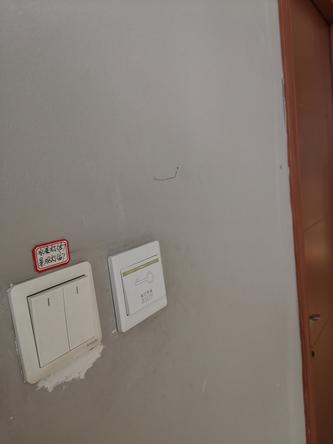switch: (23, 284, 73, 368), (55, 272, 100, 351), (117, 250, 166, 317)
